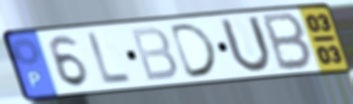6: (46, 33, 92, 90)
B: (260, 11, 315, 73), (127, 25, 180, 84)
D: (167, 20, 221, 80)
L: (84, 29, 133, 86)
U: (217, 14, 275, 76)
